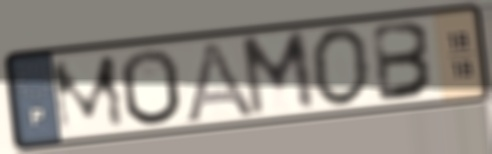A: (180, 37, 260, 126)
B: (371, 19, 439, 106)
M: (236, 27, 319, 121), (47, 51, 130, 137)
O: (117, 47, 186, 129), (307, 25, 374, 109)
